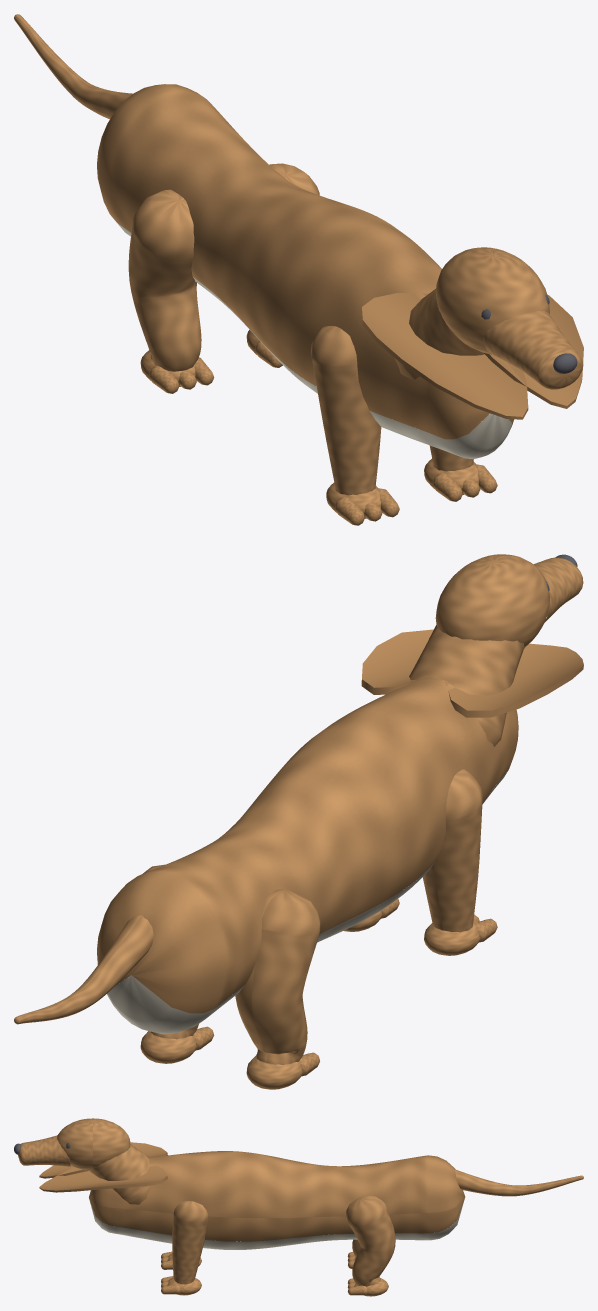
The model's file is pets-and-companions-hd-dachshund-cc25d2f9__28134.glb.
3 renders of one model, top to bottom at view 1: azimuth 30°, elevation 25°; view 2: azimuth 150°, elevation 25°; view 3: azimuth 270°, elevation 25°, orthographic. The views are drawn at different scales.
Parts seen in each view (by area): view 1: dachshund; view 2: dachshund; view 3: dachshund.
Boxes of the visible parts, x1=… form: dachshund: x1=14, y1=14, x2=583, y2=525; dachshund: x1=14, y1=554, x2=583, y2=1089; dachshund: x1=14, y1=1118, x2=583, y2=1296.
Size of the model in its own units: 0.1611 by 0.2715 by 0.8747.
3 materials, 2 textured.
